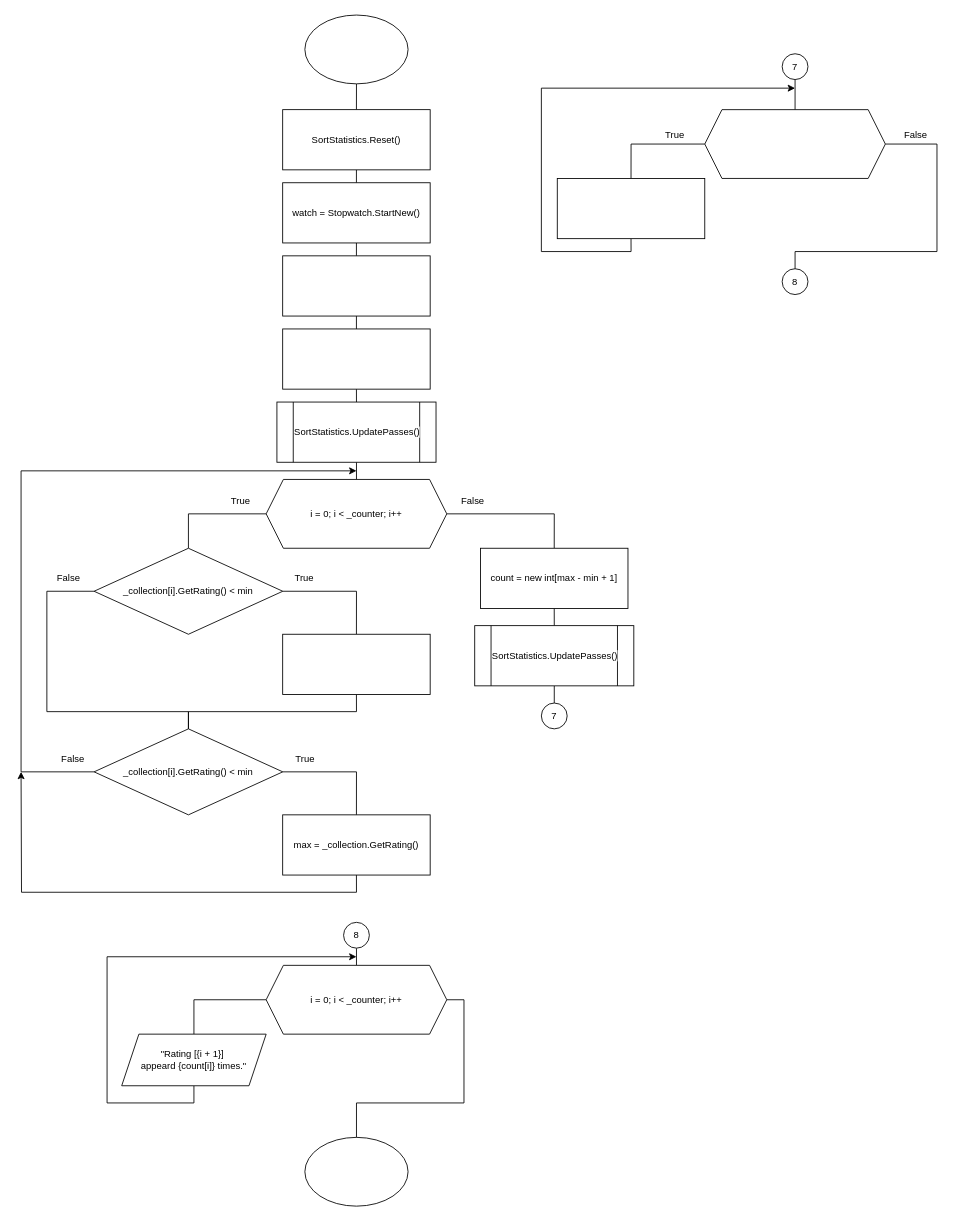
This 953x1221 diagram has some shape labels left out. The box of each missing label's shape, as (x1, y1, x2, y2) in pixels:
count[_collection[i].GetRating - min]++: (556, 178, 705, 239)
End: (304, 1136, 408, 1206)
i = 0; i < _collection.Length; i++: (704, 109, 885, 178)
max = 0: (282, 328, 430, 389)
min = 11: (282, 255, 430, 316)
min = _collection.GetRating(): (282, 633, 430, 694)
Start: (304, 14, 408, 84)
